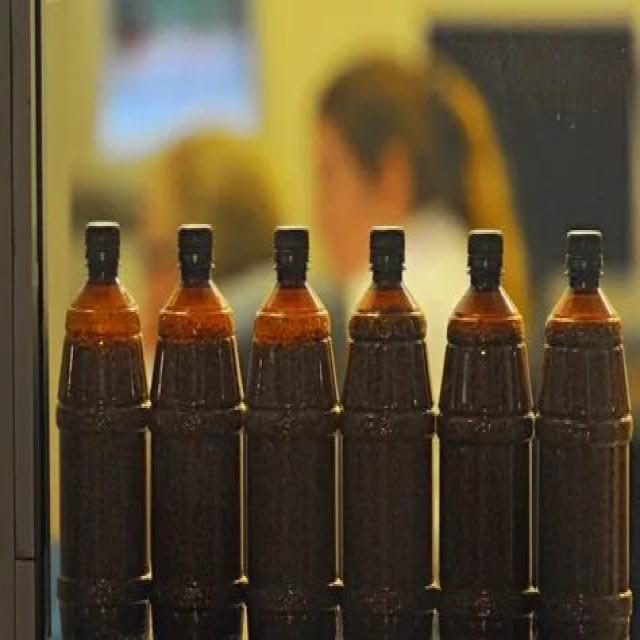brown: (534, 285, 632, 640), (340, 280, 434, 638), (247, 280, 340, 640), (150, 280, 242, 640), (59, 278, 148, 640), (442, 280, 530, 640)
